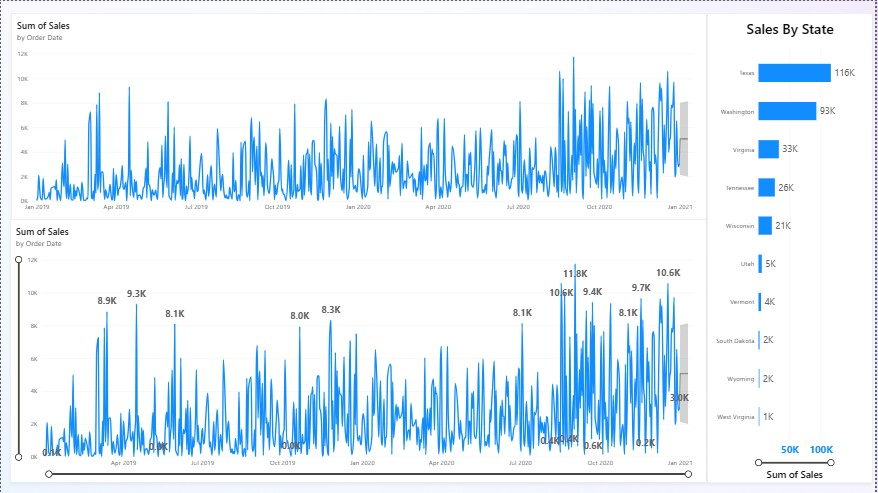

This screenshot's page, from the dashboard's own definition file:
{"tool":"powerbi","page":{"name":"Page 2","canvas":[1920,1080],"ordinal":1},"visuals":[{"type":"lineChart","fields":{"Category":["SuperStore_Sales_Dataset.Order Date"],"Y":["Sum(SuperStore_Sales_Dataset.Sales)"]},"box":[21.6,25.9,1527.1,453.6],"z":0},{"type":"lineChart","fields":{"Category":["SuperStore_Sales_Dataset.Order Date"],"Y":["Sum(SuperStore_Sales_Dataset.Sales)"]},"box":[19.4,479.5,1529.3,578.9],"z":1000},{"type":"clusteredBarChart","title":"Sales By State","fields":{"Category":["SuperStore_Sales_Dataset.State"],"Y":["Sum(SuperStore_Sales_Dataset.Sales)"]},"box":[1548.7,25.9,362.9,1032.5],"z":2000}]}

Visuals, with their boxes in screenshot pixels (x1, y1, x2, y2), scaled from the page's 1920x1080 canvas onto the 878x493 screenshot:
lineChart - SuperStore_Sales_Dataset.Order Date x Sum(SuperStore_Sales_Dataset.Sales): <bbox>10, 12, 708, 219</bbox>
lineChart - SuperStore_Sales_Dataset.Order Date x Sum(SuperStore_Sales_Dataset.Sales): <bbox>9, 219, 708, 483</bbox>
"Sales By State" clusteredBarChart: <bbox>708, 12, 874, 483</bbox>
